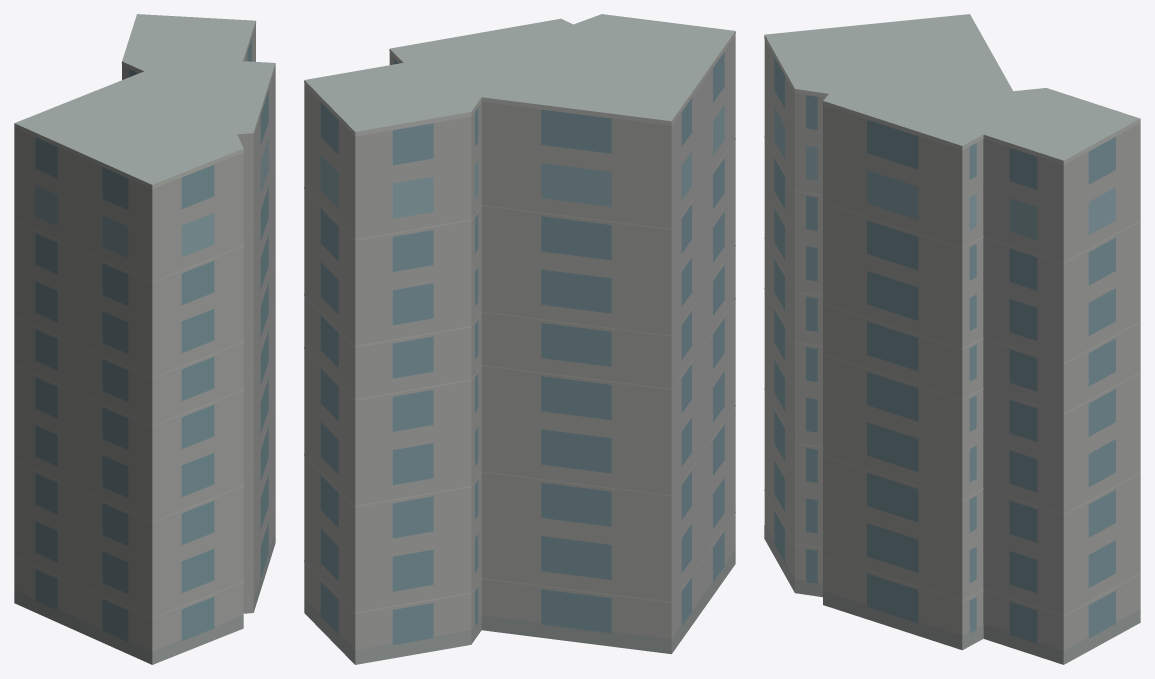
The model's file is residential-a56057d2-cd60-4555-85c8-a4e415cb06a6.glb.
3 renders of one model, left to right at view 1: azimuth 30°, elevation 25°; view 2: azimuth 150°, elevation 25°; view 3: azimuth 270°, elevation 25°, orthographic. The views are drawn at different scales.
Parts seen in each view (by area): view 1: residential-a56057d2-cd60-4555-85c8-a4e415cb06a6.tmp; view 2: residential-a56057d2-cd60-4555-85c8-a4e415cb06a6.tmp; view 3: residential-a56057d2-cd60-4555-85c8-a4e415cb06a6.tmp.
Boxes of the visible parts, x1,y1,x2,y2 form: residential-a56057d2-cd60-4555-85c8-a4e415cb06a6.tmp: (14,14,275,664); residential-a56057d2-cd60-4555-85c8-a4e415cb06a6.tmp: (304,14,735,664); residential-a56057d2-cd60-4555-85c8-a4e415cb06a6.tmp: (764,14,1140,664).
Size of the model in its own units: 17.5 by 28 by 18.95.
